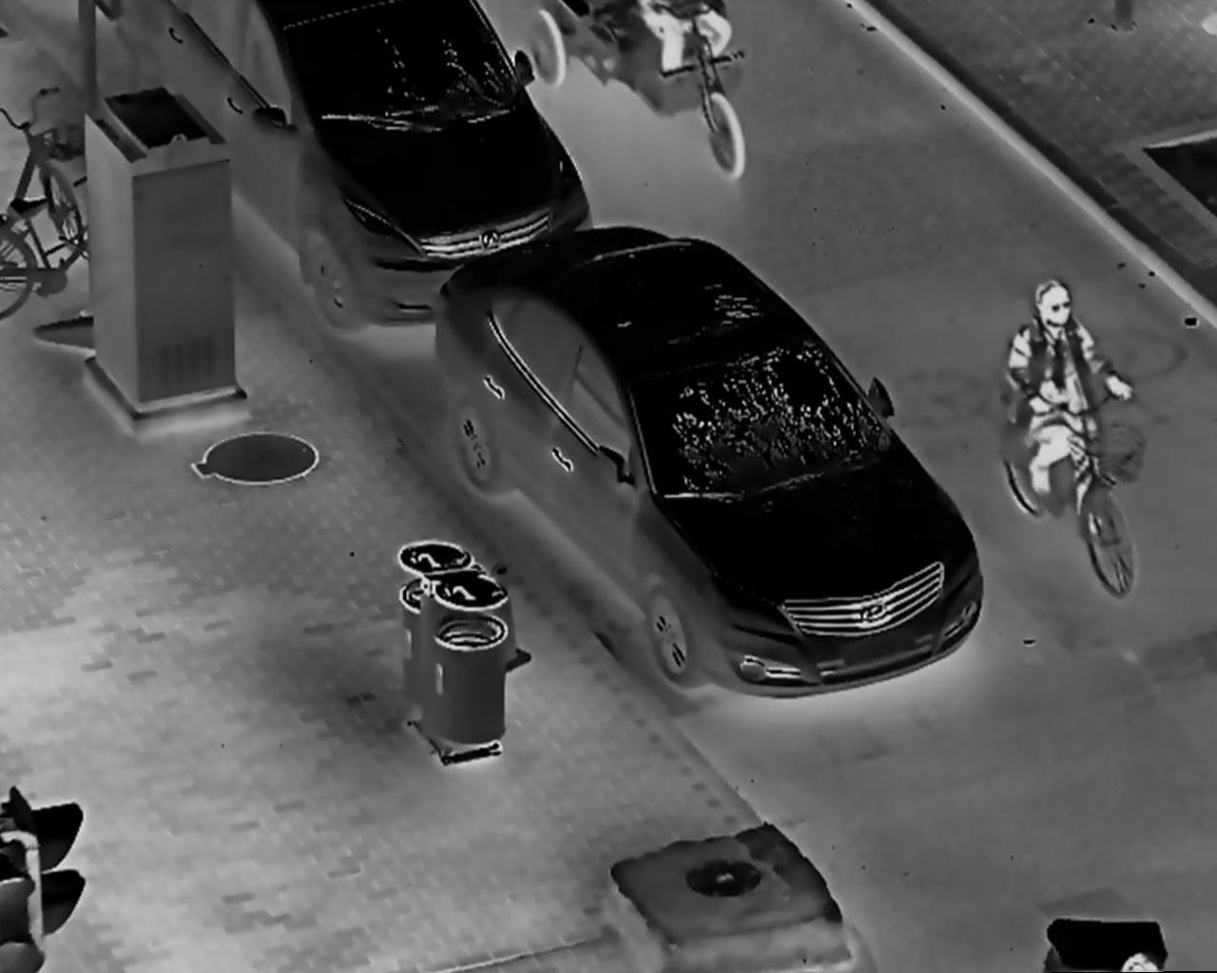person: (999, 271, 1138, 544)
